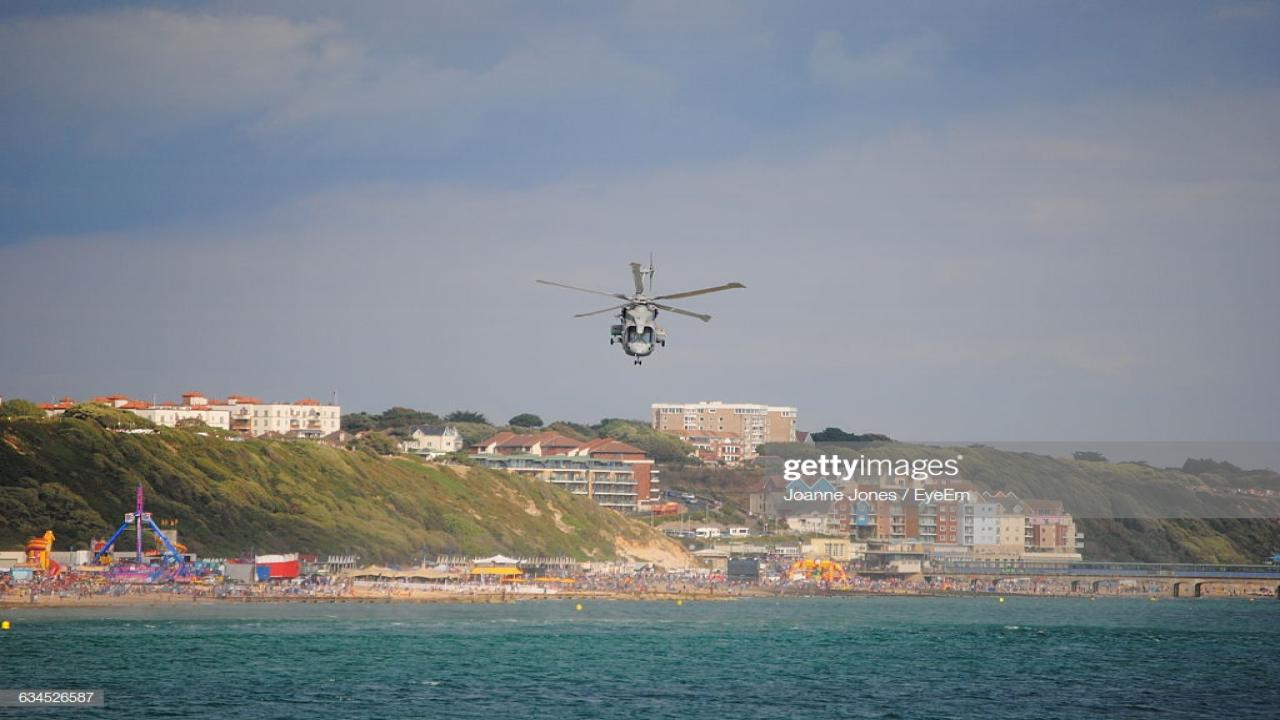Helicopter: (522, 246, 758, 371)
